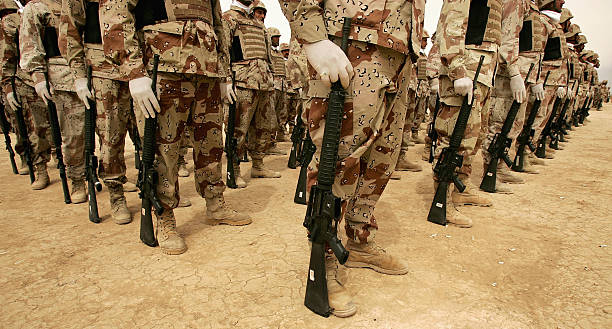rifle: (291, 12, 363, 326), (427, 56, 489, 228), (481, 62, 537, 200), (74, 62, 109, 226), (143, 51, 162, 251)
